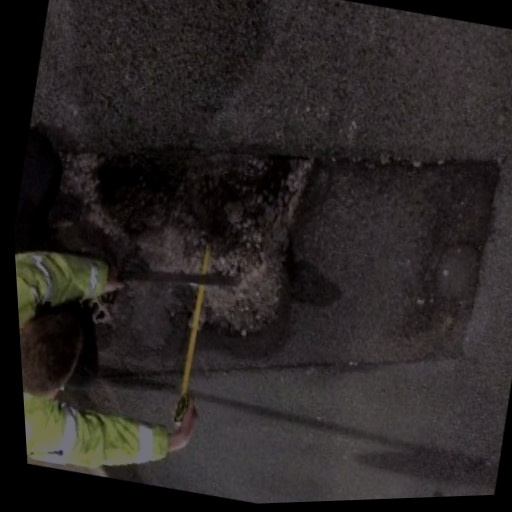pothole: (155, 128, 336, 375)
